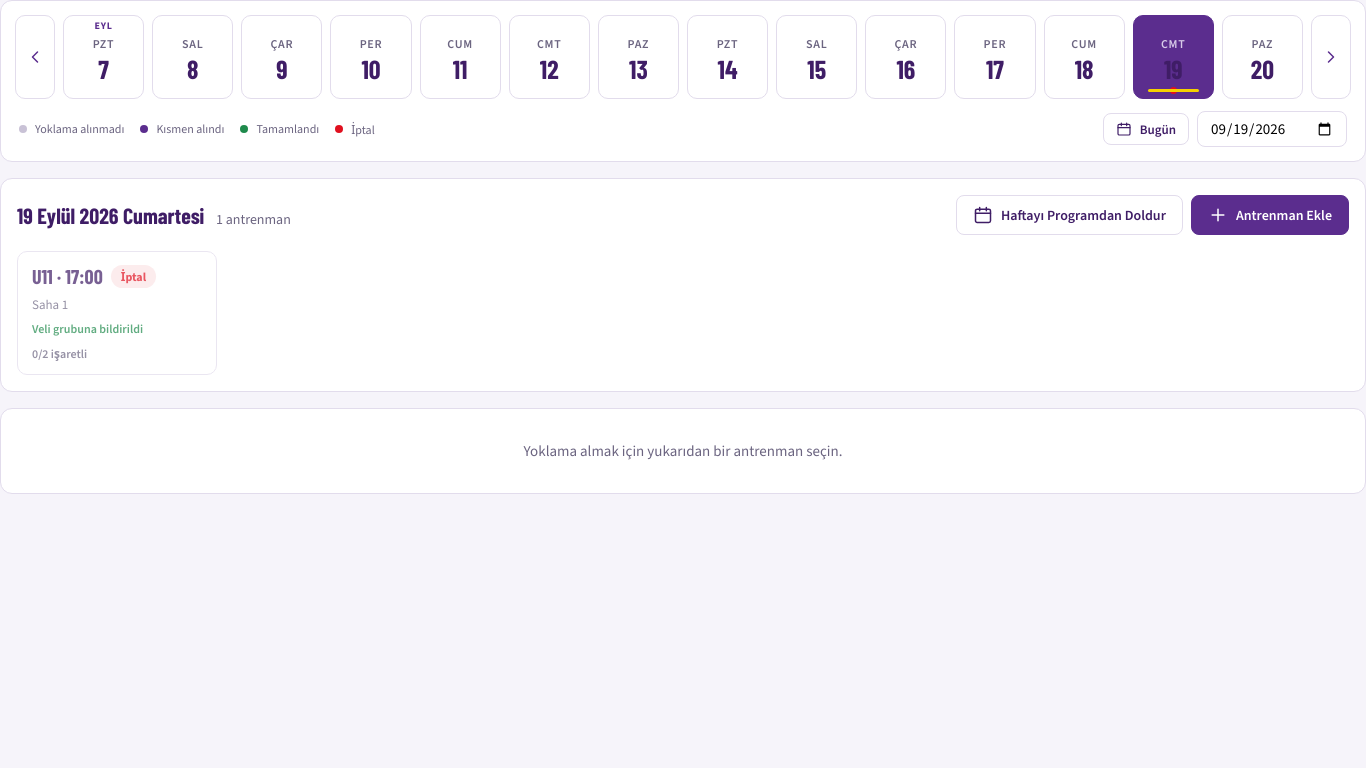
Scenario: Yoklama ekranı (takvim şeridi) › veli grubuna bildirilmiş antrenmanın başlığında 'Geri al' vardır (iptal ve değişiklik); tıklayınca kayıt silinir ve 'Velilere Bildir' geri gelir
This screenshot has width=1366, height=768.
Step 1. Click the button "U11 · 17:00" → x=117, y=313, box [17,251,217,375]
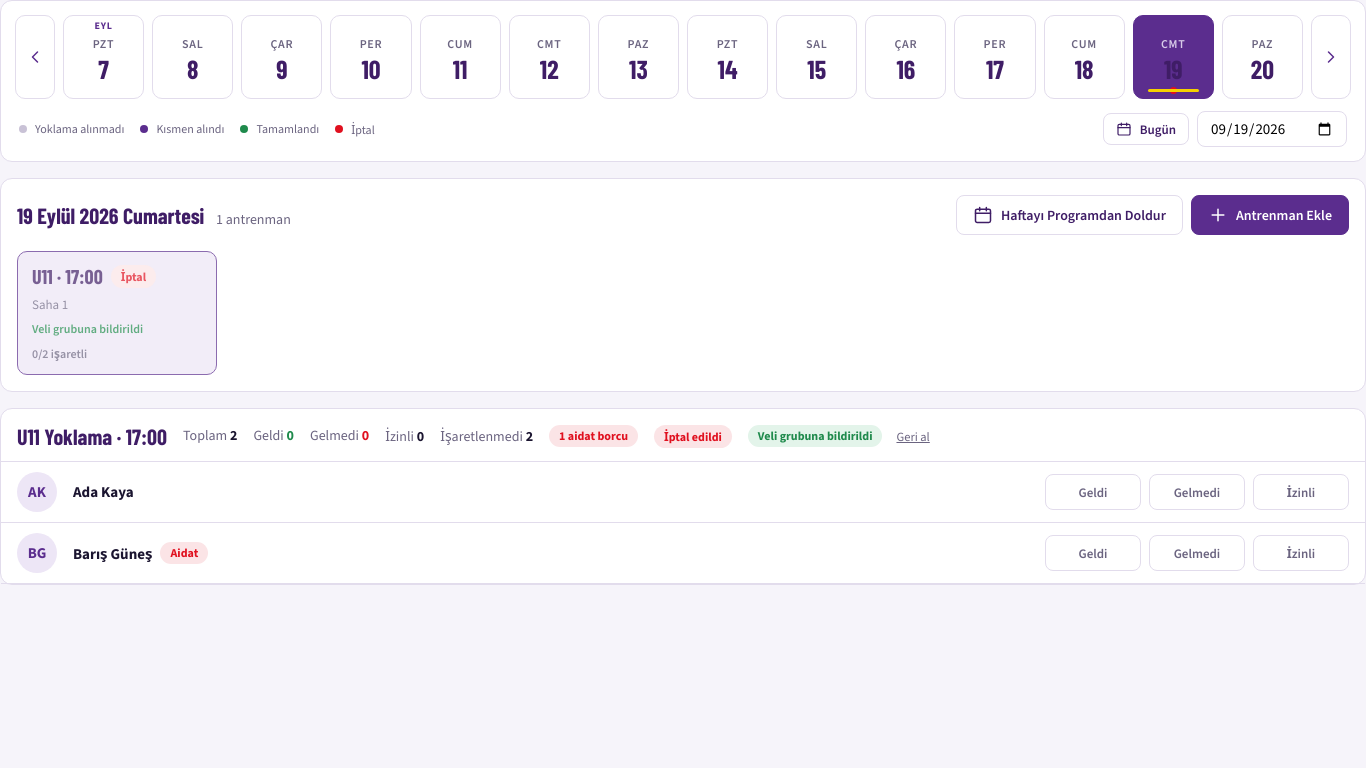
Check: the text "Veli grubuna bildirildi" below "1 antrenman" is shown, box [32,321,143,337]
Check: the text "Ada Kaya" is shown, box [73,482,134,502]
Step 2. Click the button with aria-label "Grup bildirimini geri al" → x=913, y=436, box [890,426,936,446]
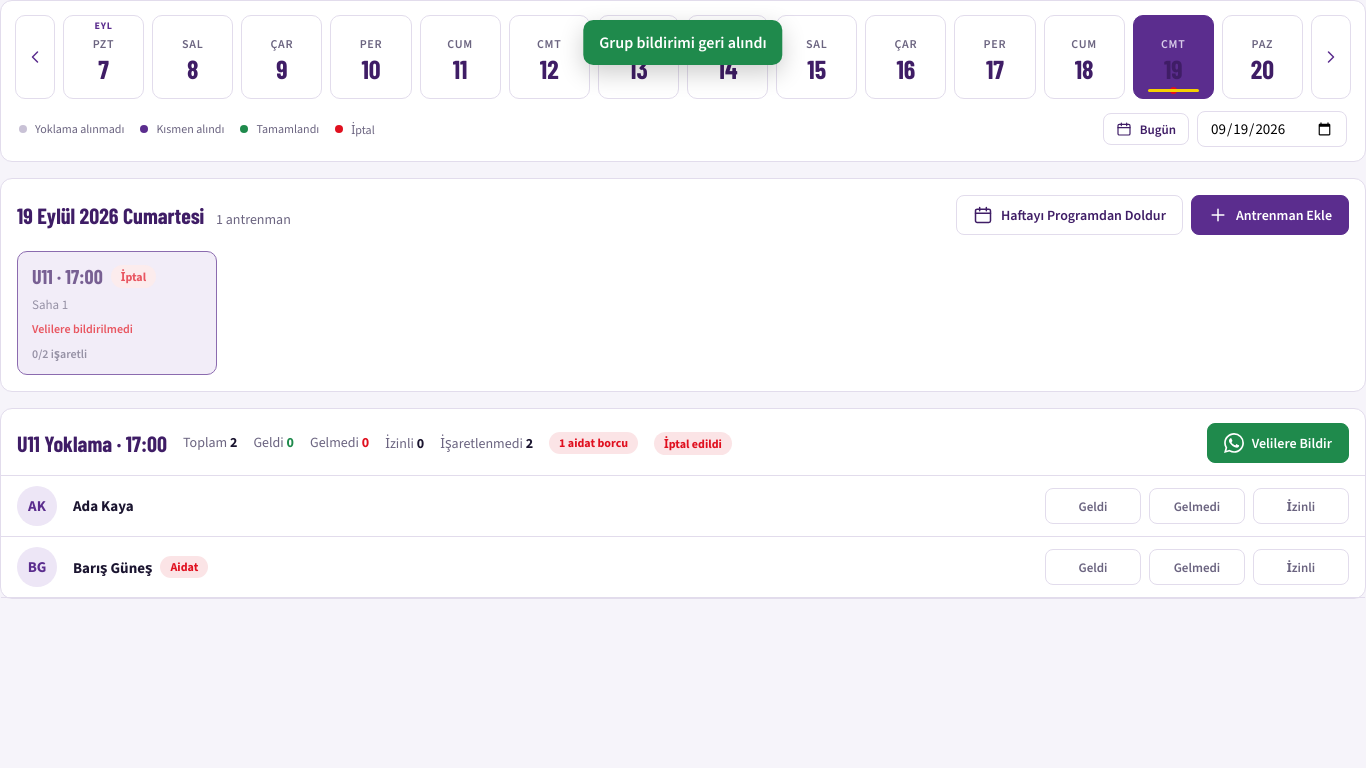
Check: the button "Velilere Bildir" is shown, box [1207,423,1349,463]
